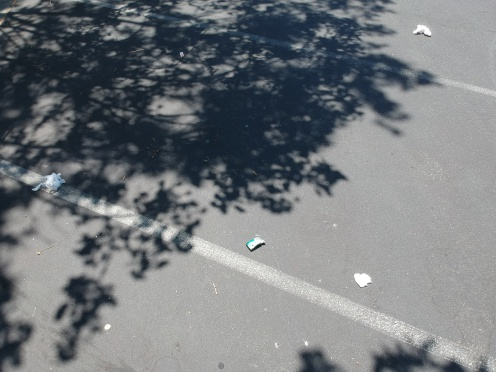plastic bag: (26, 170, 70, 197), (408, 20, 433, 41)
